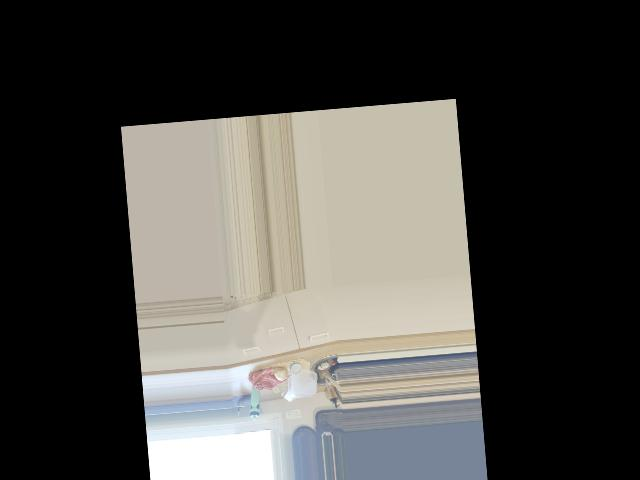onion: (269, 363, 287, 382)
